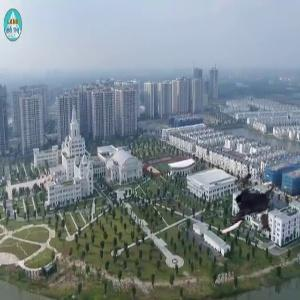drone: (198, 162, 290, 254)
